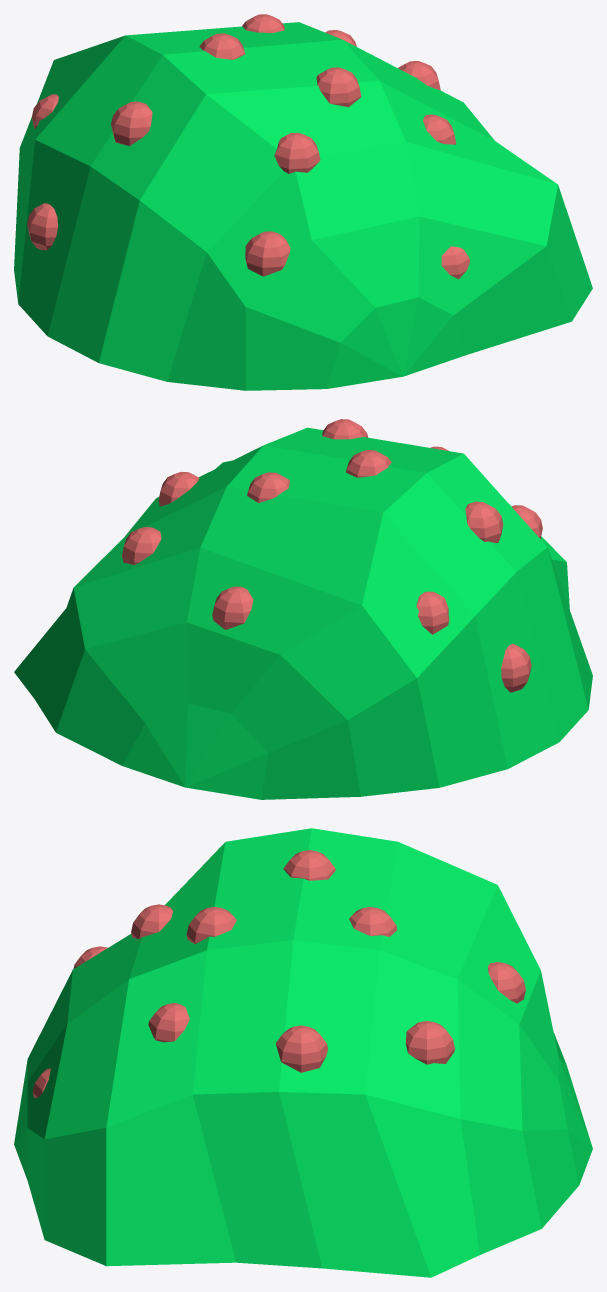
The model's file is Berry_Bush.fbx.
The picture shows the model from 3 angles, top to bottom: view 1: azimuth 30°, elevation 25°; view 2: azimuth 150°, elevation 25°; view 3: azimuth 270°, elevation 25°; orthographic projection. The views are drawn at different scales.
Visible parts, largest first — view 1: pSphere18; view 2: pSphere18; view 3: pSphere18.
Part boxes in pixels (<box>): pSphere18: <box>14,14,592,390</box>; pSphere18: <box>14,419,592,799</box>; pSphere18: <box>14,828,592,1277</box>.
Bounding box in the file's own units: 213 × 106 × 207.
